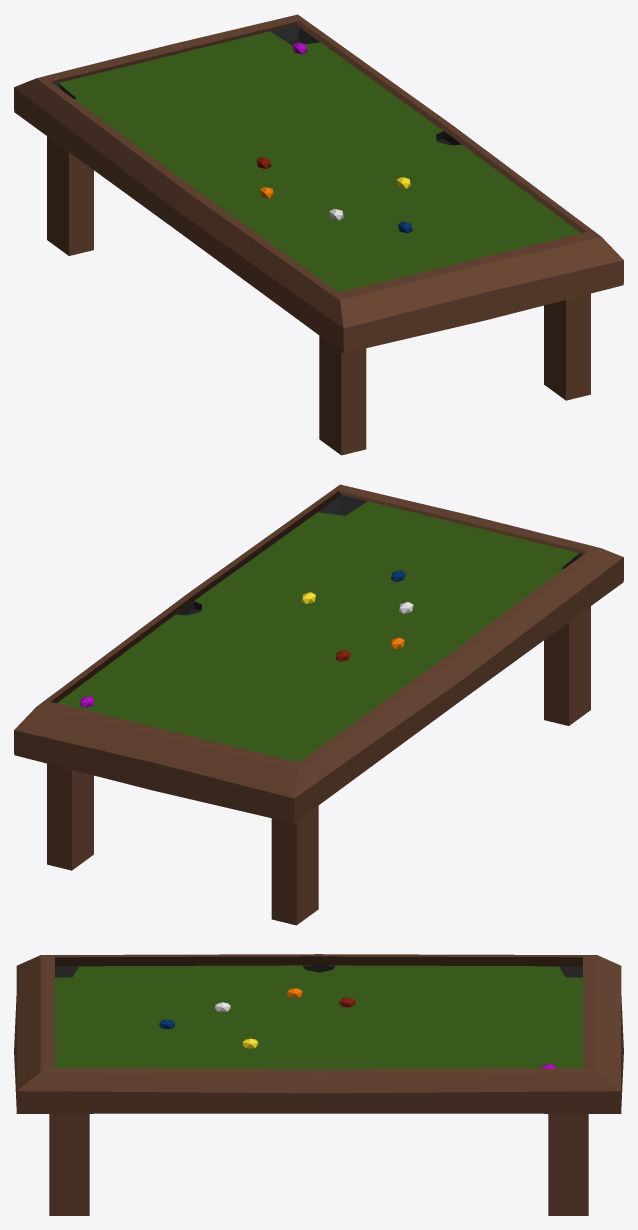
File: billiardTable.glb
3 views of the same model, one above another, from view 1: azimuth 30°, elevation 25°; view 2: azimuth 150°, elevation 25°; view 3: azimuth 270°, elevation 25° (orthographic). The views are drawn at different scales.
Visible parts, largest first — view 1: Cylinder; view 2: Cylinder; view 3: Cylinder.
Boxes of the visible parts, bbox=[...] form: Cylinder: bbox=[14, 14, 623, 455]; Cylinder: bbox=[14, 484, 623, 925]; Cylinder: bbox=[14, 954, 623, 1215].
Size of the model in its own units: 1.5 by 0.8 by 3.
1 material, 1 textured.
